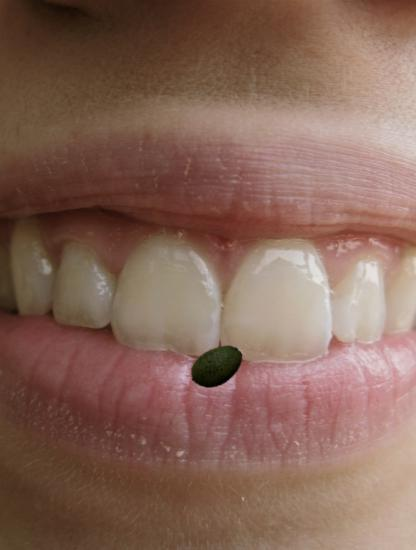Avocado: (189, 339, 245, 395)
